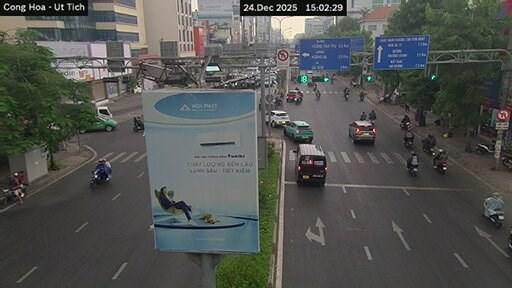motorbike: (483, 198, 504, 227), (0, 184, 25, 204), (90, 169, 108, 189), (475, 140, 495, 154), (422, 139, 434, 155), (133, 116, 144, 131), (434, 162, 446, 174), (408, 164, 418, 176), (502, 155, 511, 168), (379, 93, 391, 102), (400, 121, 411, 130), (403, 138, 413, 147), (508, 226, 511, 249), (294, 96, 302, 104), (359, 93, 364, 101), (315, 90, 320, 98), (370, 118, 375, 125), (344, 92, 348, 100)
